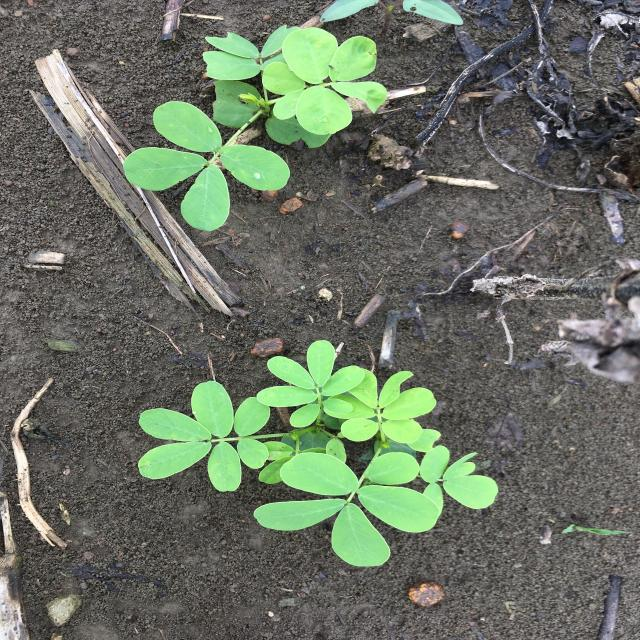Sicklepod: (138, 340, 497, 567), (124, 25, 388, 231)
